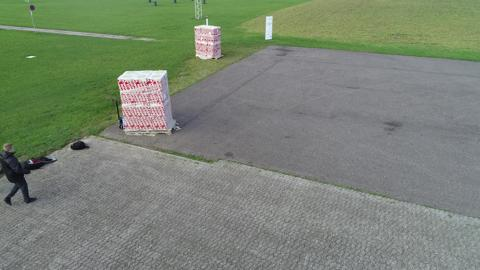RockwoolPallet: (118, 71, 174, 130)
